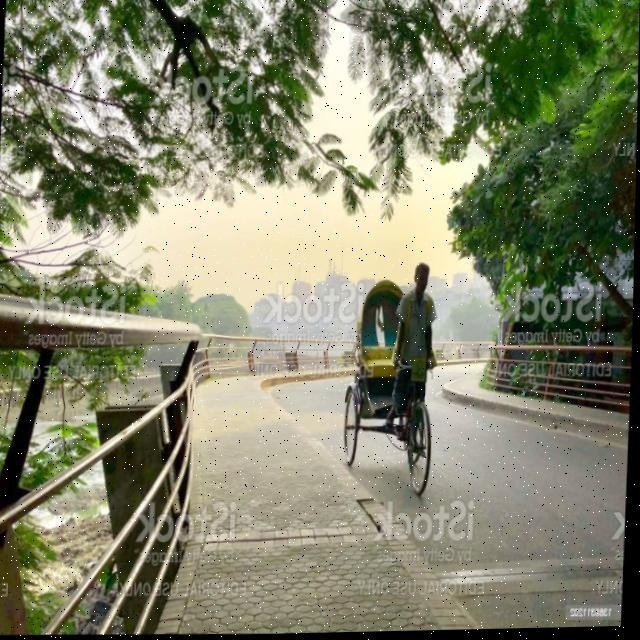rikshaw: (335, 262, 448, 507)
